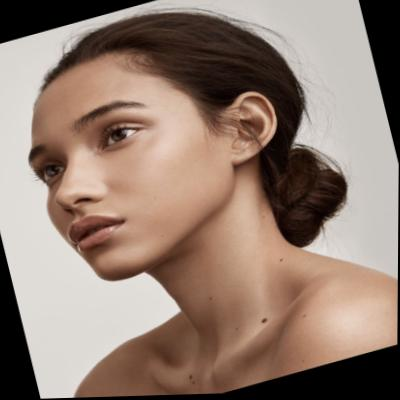netural: (8, 41, 250, 297)
